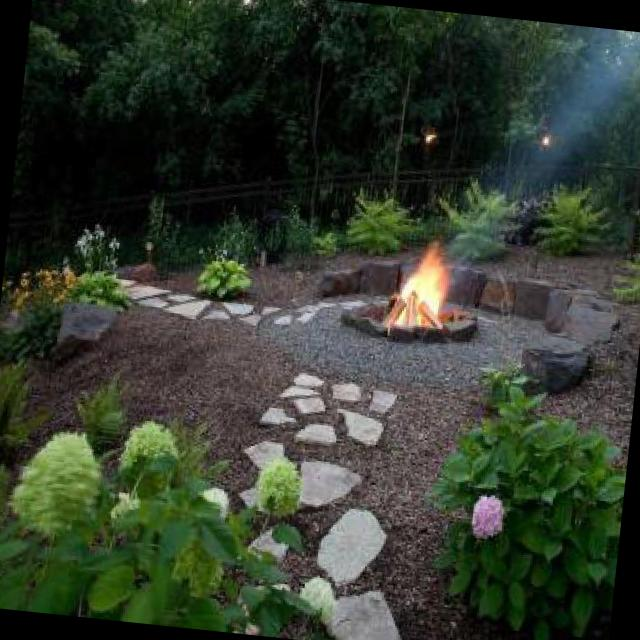Fire: (388, 246, 456, 330)
